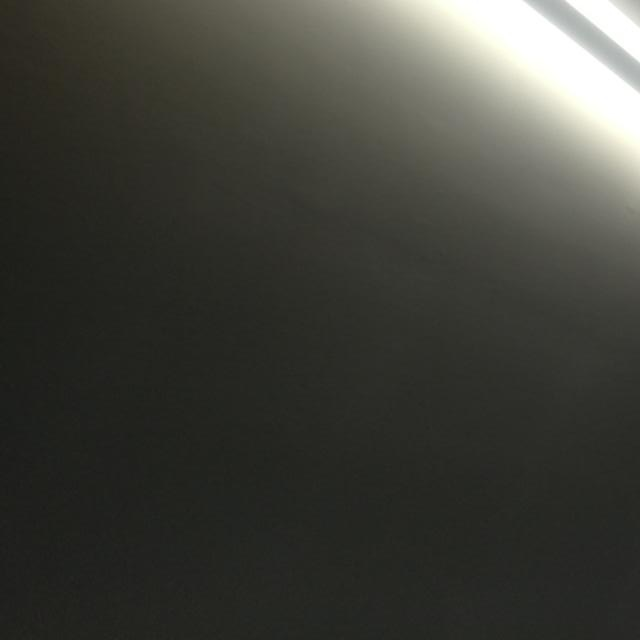fluorescent tube: (99, 0, 640, 223)
